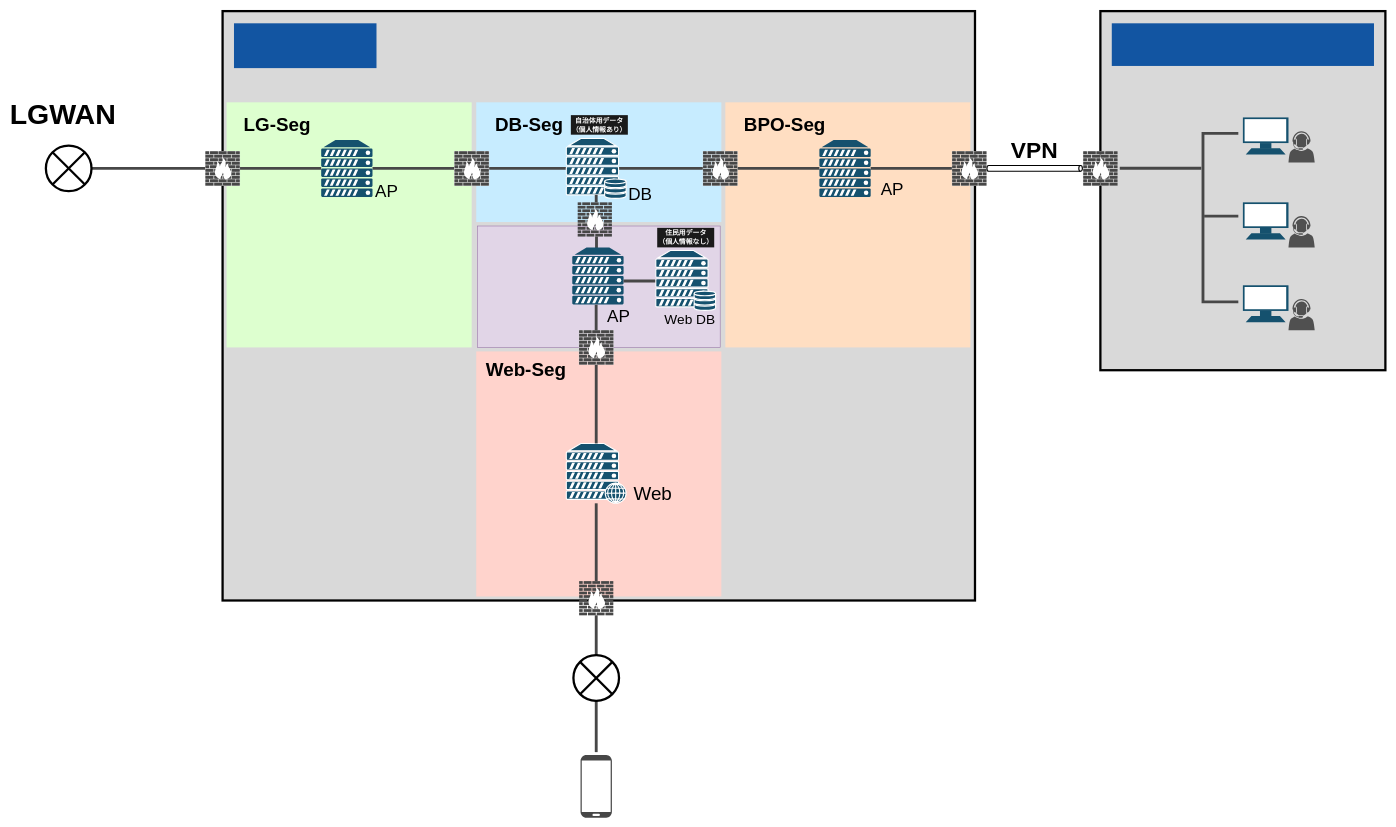
This 1396x827 diagram has some shape labels left out. The centre of each missing label's shape, as x and y in pixels:
"BPOセンター" goes at point 1243,44.
"IDC" goes at point 305,45.
